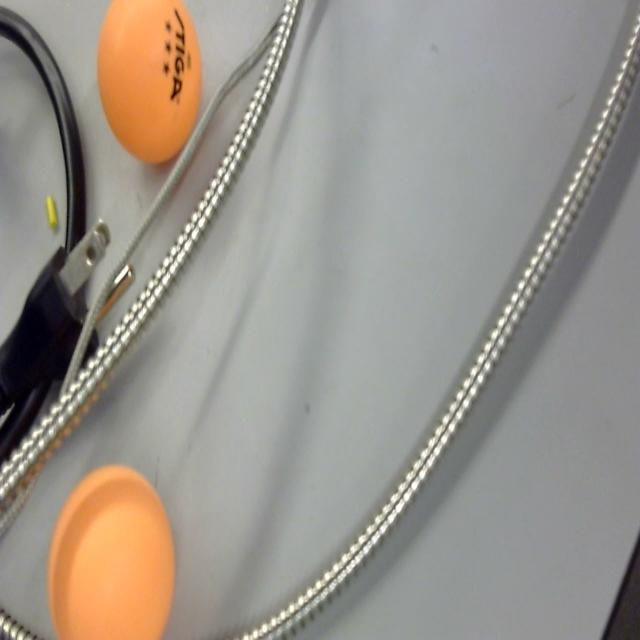ball: (47, 460, 177, 640), (96, 0, 203, 169)
